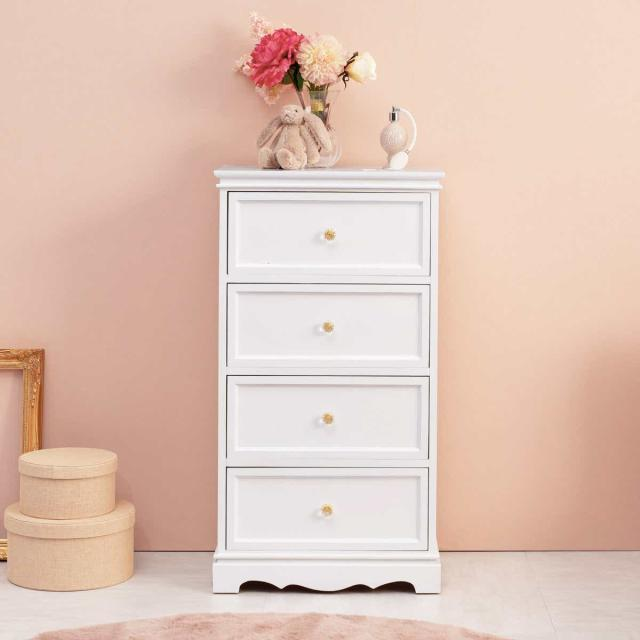white shelf: (212, 156, 452, 607)
